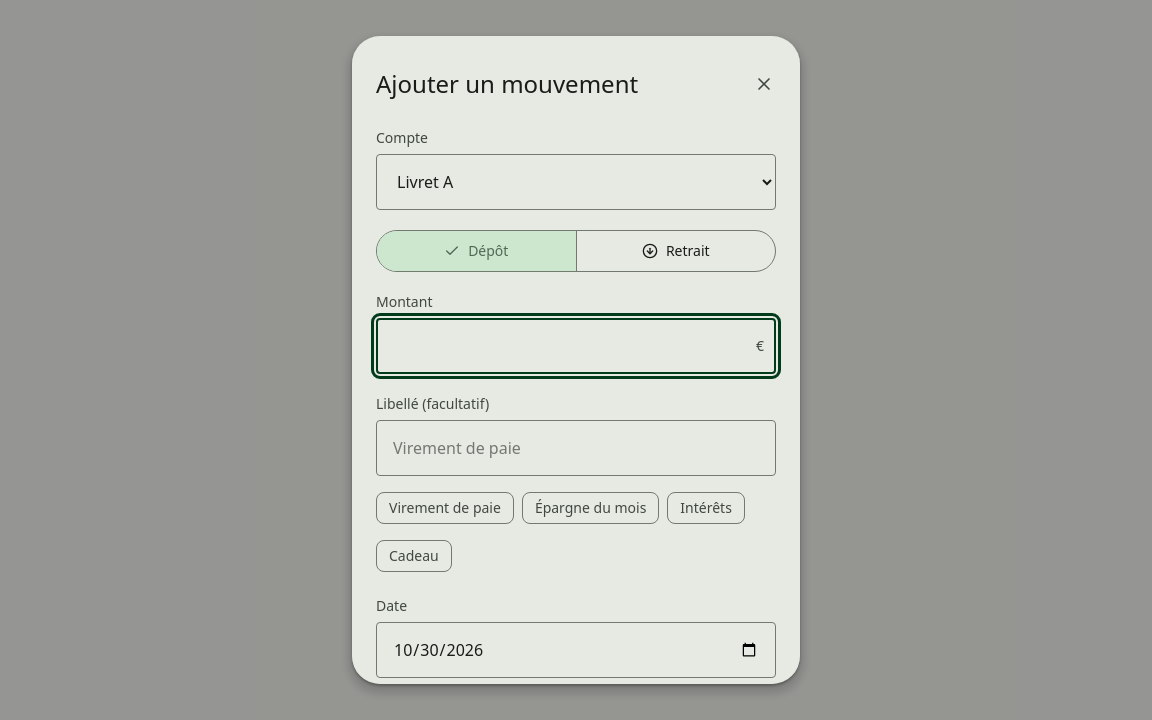
Scenario: QuickAddModal, mode solo › sans part des parents sur le compte, le refus ne parle pas des parents
Select "LDDS" in the dropdown labelled "Compte" at (576, 182), box [376,154,776,210]
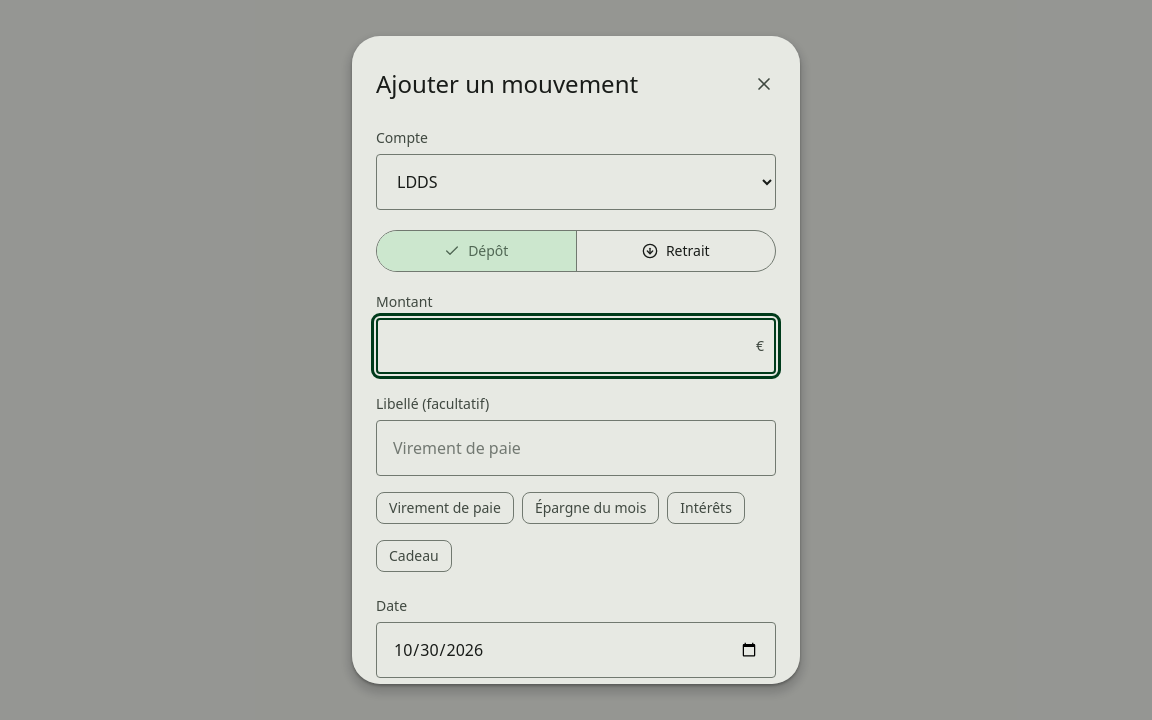
Click the button "Retrait" at (675, 251), box [576,231,775,271]
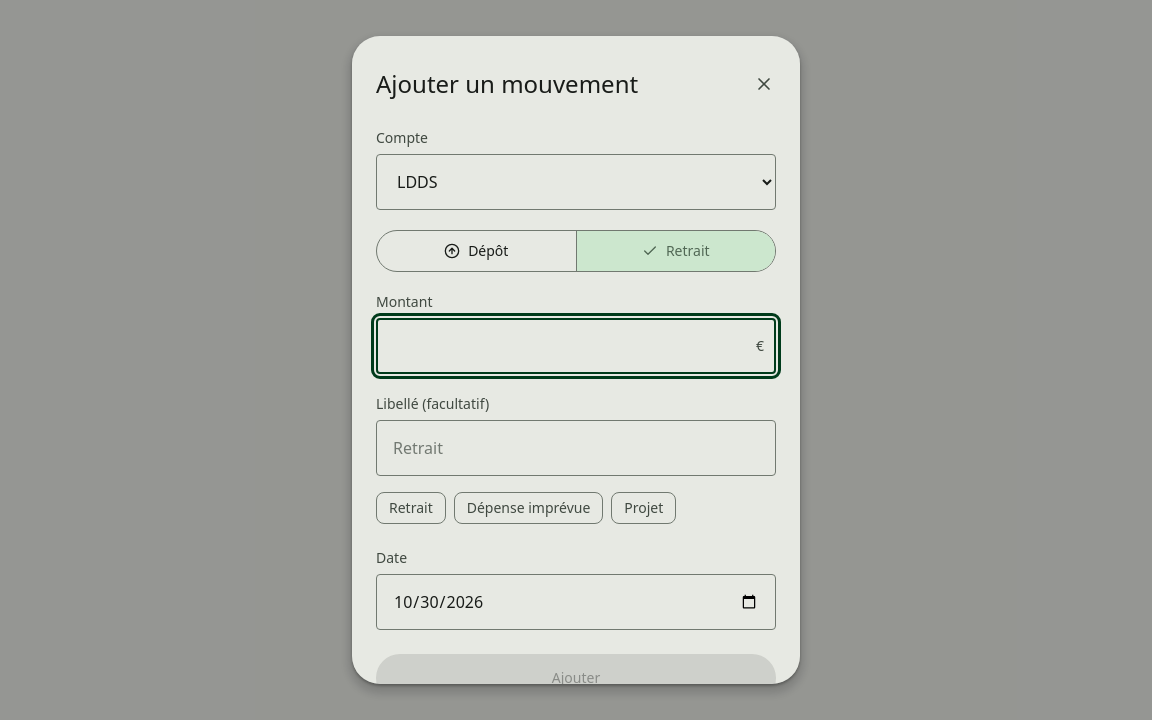
Type "5000" into the field labelled "Montant" at (576, 346), box [376,318,776,374]
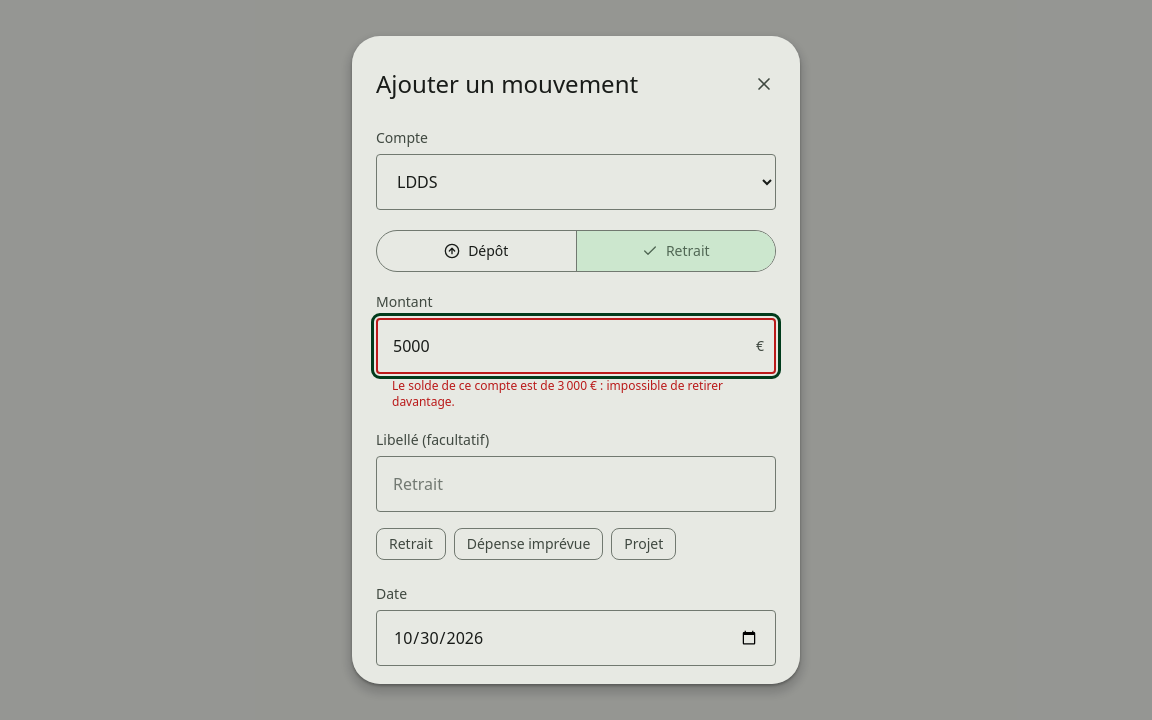
Expected: the message reads "Le solde de ce compte est de 3 000 € : impossible de retirer davantage.", [392,377,723,410]
